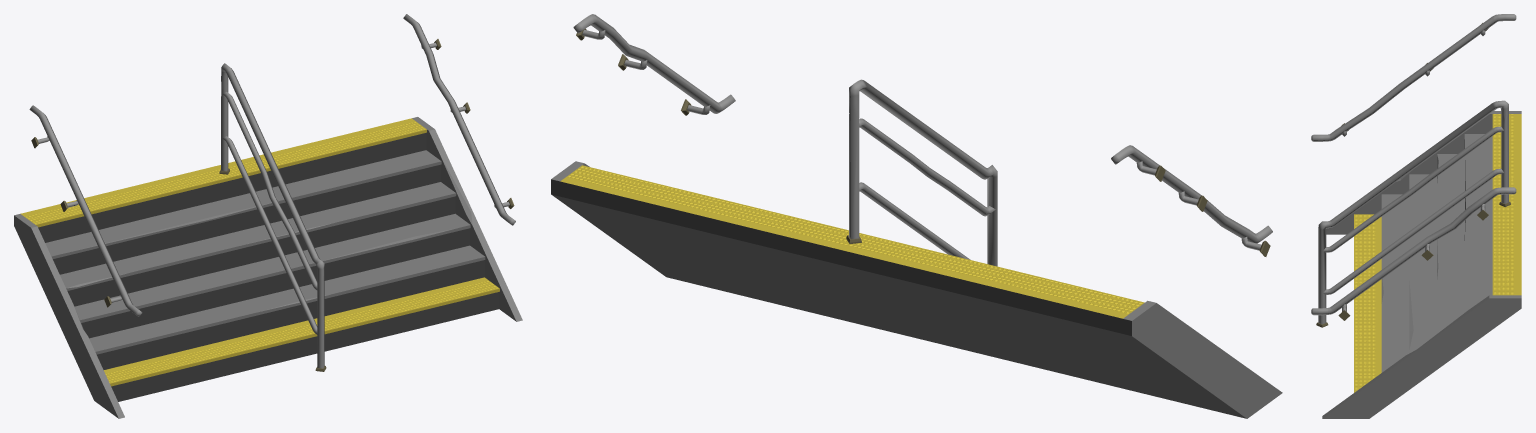
File: SW_ENV_StationStair_Short_FF.fbx
The picture shows the model from 3 angles, left to right: view 1: azimuth 30°, elevation 25°; view 2: azimuth 150°, elevation 25°; view 3: azimuth 270°, elevation 25°; orthographic projection. The views are drawn at different scales.
Parts seen in each view (by area): view 1: SW_ENV_StationStair_Short_FF; view 2: SW_ENV_StationStair_Short_FF; view 3: SW_ENV_StationStair_Short_FF.
Boxes of the visible parts, x1,y1,x2,y2 form: SW_ENV_StationStair_Short_FF: (14, 14, 522, 418); SW_ENV_StationStair_Short_FF: (551, 14, 1282, 418); SW_ENV_StationStair_Short_FF: (1311, 14, 1521, 418).
Size of the model in its own units: 4 by 2.24 by 1.9.
